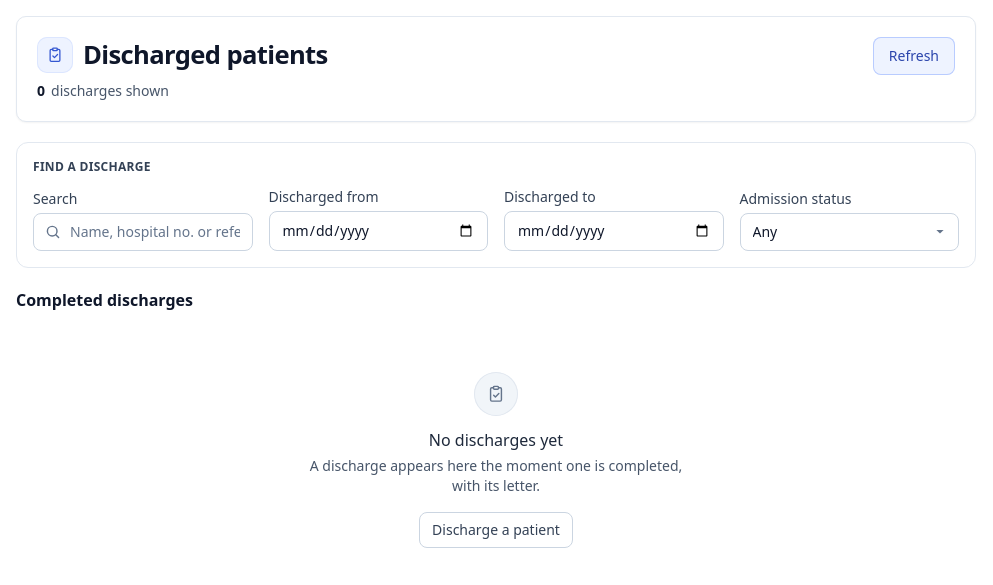
Test case: the register › tells an empty register apart from filters that match nothing
The width and height of the screenshot is (993, 585).
Expected: the text "No discharges yet" is shown, [429,429,563,451]
Expected: the link "Discharge a patient" is shown, [419,512,573,548]
Step 1. Type "nobody" into the search field labelled "Search" → (143, 232), box [33,213,252,251]
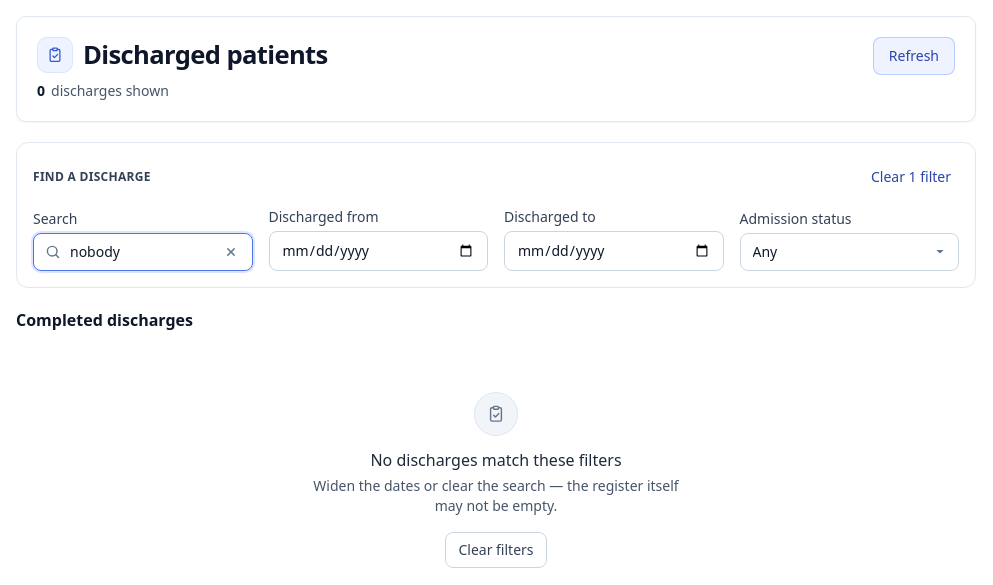
Now the text "No discharges match these filters" is shown, box [370,449,622,471]
Now the button "Clear 1 filter" is shown, box [863,159,959,195]
